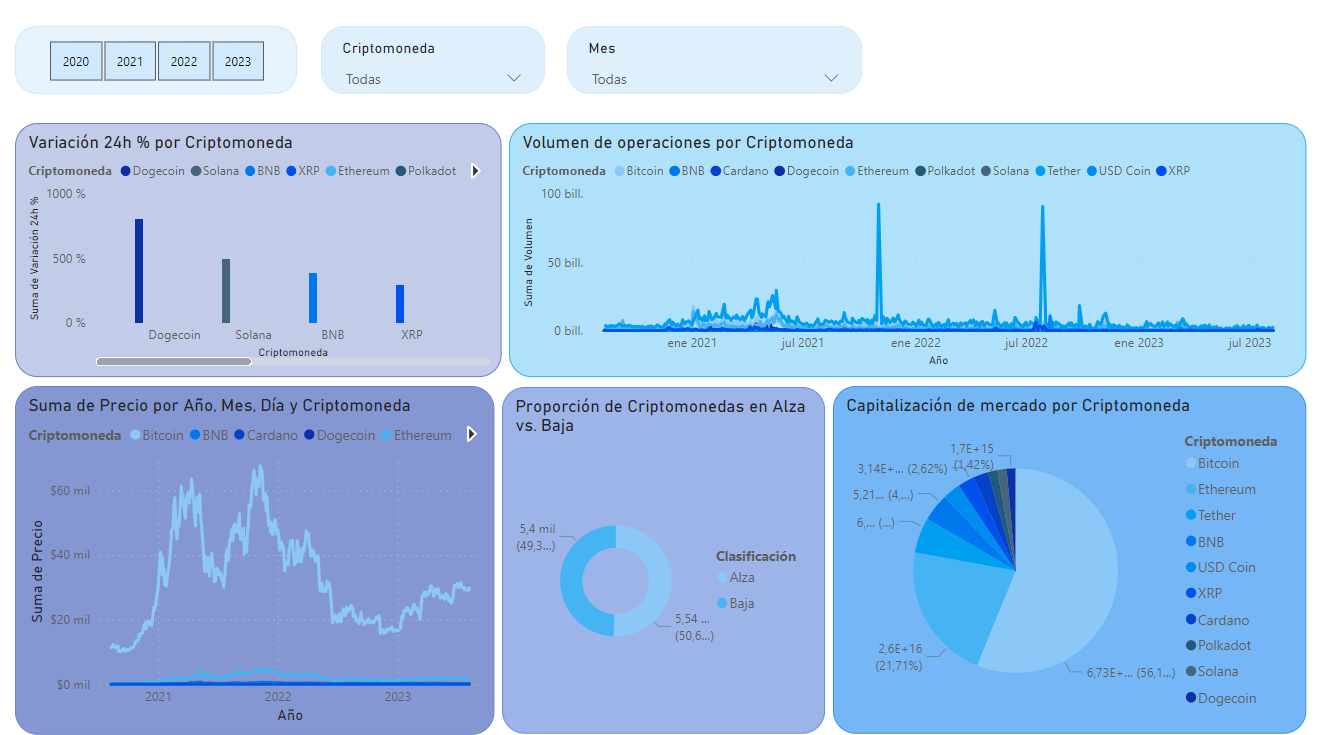

What the dashboard file says about the page in this screenshot:
{"tool":"powerbi","page":{"name":"Dashboard","canvas":[1280,720],"ordinal":0},"visuals":[{"type":"slicer","fields":{"Values":["Monedas.Criptomoneda"]},"box":[297.4,31.1,218.7,66.1],"z":0},{"type":"slicer","fields":{"Values":["Monedas.Fecha.Variación.Jerarquía de fechas.Año"]},"box":[14.6,31.1,274.1,66.1],"z":1000},{"type":"pieChart","title":"Capitalización de mercado por Criptomoneda","fields":{"Category":["Monedas.Criptomoneda"],"Y":["Sum(Monedas.Capitalización de mercado)"]},"box":[809.6,381,459.7,338.2],"z":2000},{"type":"lineChart","fields":{"Category":["Monedas.Fecha.Variación.Jerarquía de fechas.Año","Monedas.Fecha.Variación.Jerarquía de fechas.Mes","Monedas.Fecha.Variación.Jerarquía de fechas.Día"],"Y":["Sum(Monedas.Precio)"],"Series":["Monedas.Criptomoneda"]},"box":[14.6,381,465.5,339.2],"z":3000},{"type":"lineChart","title":"Volumen de operaciones por Criptomoneda","fields":{"Category":["Monedas.Fecha.Variación.Jerarquía de fechas.Año","Monedas.Fecha.Variación.Jerarquía de fechas.Trimestre","Monedas.Fecha.Variación.Jerarquía de fechas.Mes","Monedas.Fecha.Variación.Jerarquía de fechas.Día"],"Y":["Sum(Monedas.Volumen)"],"Series":["Monedas.Criptomoneda"]},"box":[494.7,125.4,774.6,246.9],"z":4000},{"type":"clusteredColumnChart","title":"Variación 24h % por Criptomoneda","fields":{"Y":["Sum(Monedas.Variación 24h %)"],"Category":["Monedas.Criptomoneda"],"Series":["Monedas.Criptomoneda"]},"box":[14.6,125.4,473.3,246.9],"z":5000},{"type":"slicer","fields":{"Values":["Monedas.Fecha.Variación.Jerarquía de fechas.Mes"]},"box":[546.2,31.1,287.7,66.1],"z":6000},{"type":"donutChart","title":"Proporción de Criptomonedas en Alza vs. Baja","fields":{"Category":["Monedas.Clasificación"],"Y":["CountNonNull(Monedas.Criptomoneda)"]},"box":[487.9,382,313.9,337.3],"z":7000}]}

Visuals, with their boxes in screenshot pixels (x1, y1, x2, y2), scaled from the page's 1280x720 canvas onto the 1317x735 screenshot:
slicer - Monedas.Criptomoneda: l=306, t=32, r=531, b=99
slicer - Monedas.Fecha.Variación.Jerarquía de fechas.Año: l=15, t=32, r=297, b=99
"Capitalización de mercado por Criptomoneda" pieChart: l=833, t=389, r=1306, b=734
lineChart - Monedas.Fecha.Variación.Jerarquía de fechas.Año x Monedas.Fecha.Variación.Jerarquía de fechas.Mes: l=15, t=389, r=494, b=734
"Volumen de operaciones por Criptomoneda" lineChart: l=509, t=128, r=1306, b=380
"Variación 24h % por Criptomoneda" clusteredColumnChart: l=15, t=128, r=502, b=380
slicer - Monedas.Fecha.Variación.Jerarquía de fechas.Mes: l=562, t=32, r=858, b=99
"Proporción de Criptomonedas en Alza vs. Baja" donutChart: l=502, t=390, r=825, b=734
